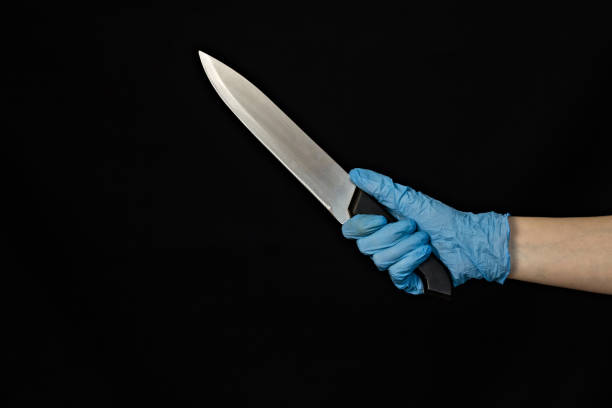knife: (196, 48, 457, 301)
